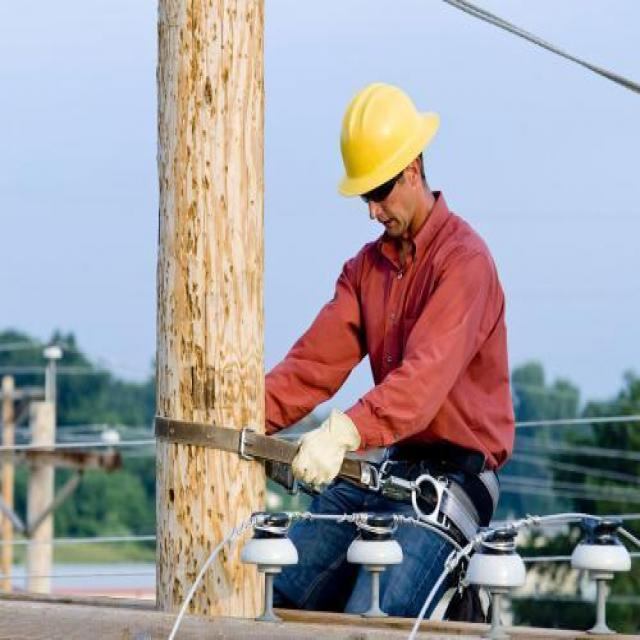gloves: (291, 408, 361, 494)
hard-hat: (337, 82, 439, 198)
person: (263, 82, 517, 622)
